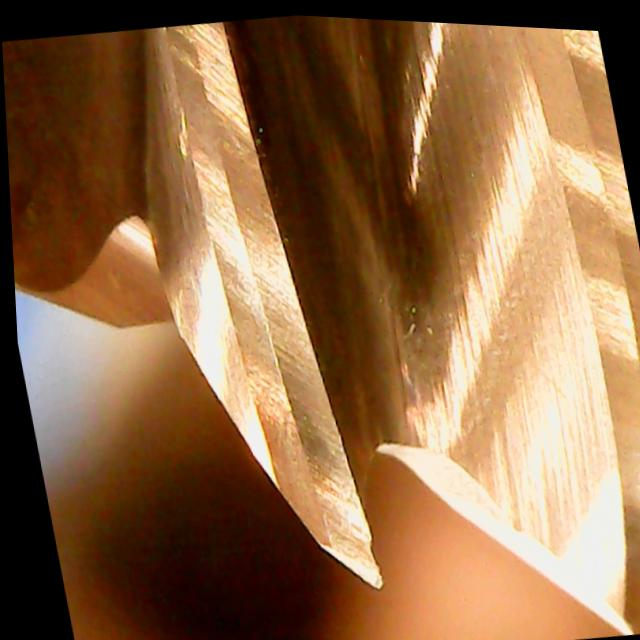Tool-wear-class-0: (180, 246, 400, 612)
